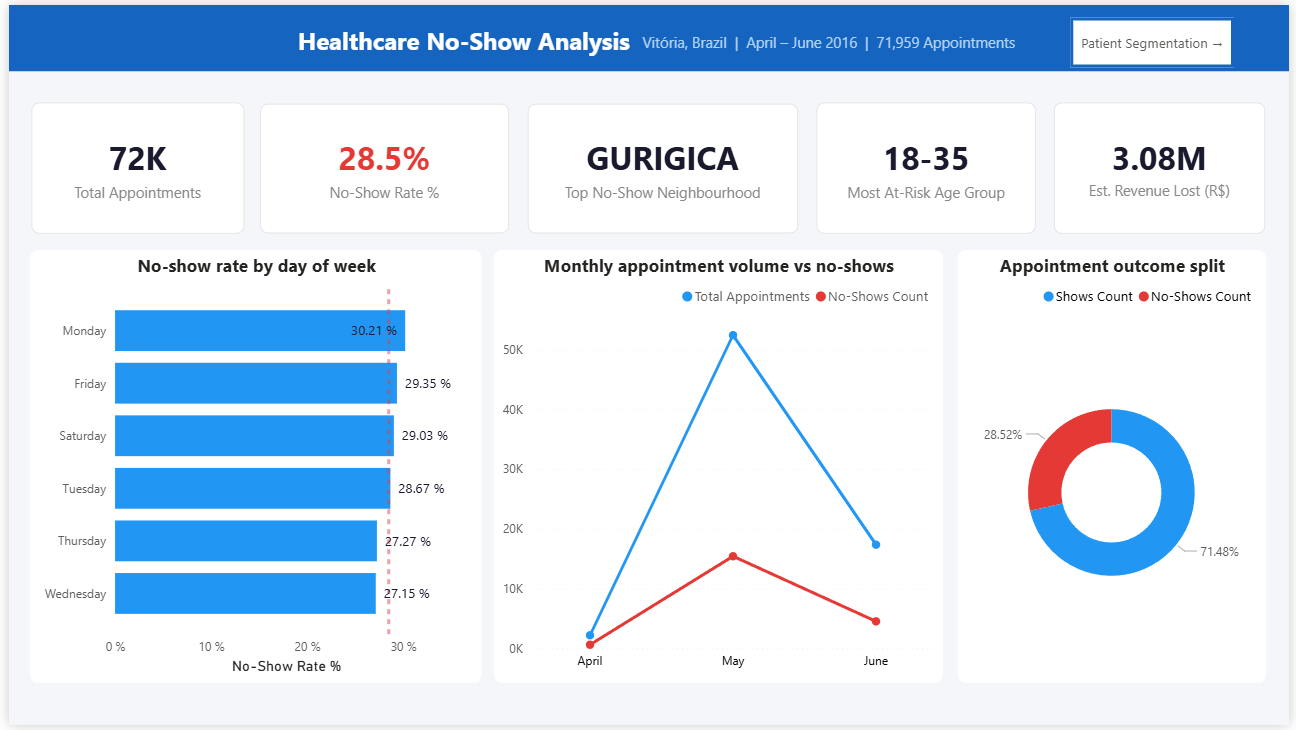

Layout of this report page (visuals, bound fields, positions):
{"tool":"powerbi","page":{"name":"Executive Summary","canvas":[1280,720],"ordinal":0},"visuals":[{"type":"shape","box":[0,0,1280,66.2],"z":0},{"type":"card","fields":{"Values":["_measures.Total Appointments"]},"box":[21.9,97.4,212.5,131.2],"z":1000},{"type":"card","fields":{"Values":["_measures.No-Show Rate %"]},"box":[251.6,98.2,248.4,129.7],"z":2000},{"type":"card","fields":{"Values":["_measures.Most At-Risk Age Group"]},"box":[807.4,98.1,219.6,131.5],"z":3000},{"type":"card","fields":{"Values":["_measures.Top No-Show Neighbourhood"]},"box":[518.8,99.1,270.3,129.7],"z":4000},{"type":"clusteredBarChart","title":"No-show rate by day of week","fields":{"Y":["_measures.No-Show Rate %"],"Category":["date_table.Weekday Name"]},"box":[21.7,244.9,451.2,433.1],"z":5000},{"type":"lineChart","title":"Monthly appointment volume vs no-shows","fields":{"Y":["_measures.Total Appointments","_measures.No-Shows Count"],"Category":["date_table.Month Name"]},"box":[484.4,245.3,448.4,432.8],"z":6000},{"type":"donutChart","title":"Appointment outcome split","fields":{"Y":["_measures.Shows Count","_measures.No-Shows Count"]},"box":[948.3,244.9,307.6,433.1],"z":7000},{"type":"cardVisual","fields":{"Data":["_measures.Est. Revenue Lost (R$)"]},"box":[1044.8,97.1,211.1,131.5],"z":8000},{"type":"textbox","box":[283.8,15,377.5,107.5],"z":9000},{"type":"textbox","box":[620,22.5,391.2,40],"z":10000},{"type":"actionButton","title":"Patient Segmentation →","box":[1061.2,12.5,163.8,50],"z":11000}]}

Visuals, with their boxes in screenshot pixels (x1, y1, x2, y2), scaled from the page's 1280x720 canvas onto the 1296x730 screenshot:
shape: left=0, top=0, right=1295, bottom=67
card - _measures.Total Appointments: left=22, top=99, right=237, bottom=232
card - _measures.No-Show Rate %: left=255, top=100, right=506, bottom=231
card - _measures.Most At-Risk Age Group: left=817, top=99, right=1040, bottom=233
card - _measures.Top No-Show Neighbourhood: left=525, top=100, right=799, bottom=232
"No-show rate by day of week" clusteredBarChart: left=22, top=248, right=479, bottom=687
"Monthly appointment volume vs no-shows" lineChart: left=490, top=249, right=944, bottom=688
"Appointment outcome split" donutChart: left=960, top=248, right=1272, bottom=687
cardVisual - _measures.Est. Revenue Lost (R$): left=1058, top=98, right=1272, bottom=232
textbox: left=287, top=15, right=670, bottom=124
textbox: left=628, top=23, right=1024, bottom=63
"Patient Segmentation →" actionButton: left=1074, top=13, right=1240, bottom=63
